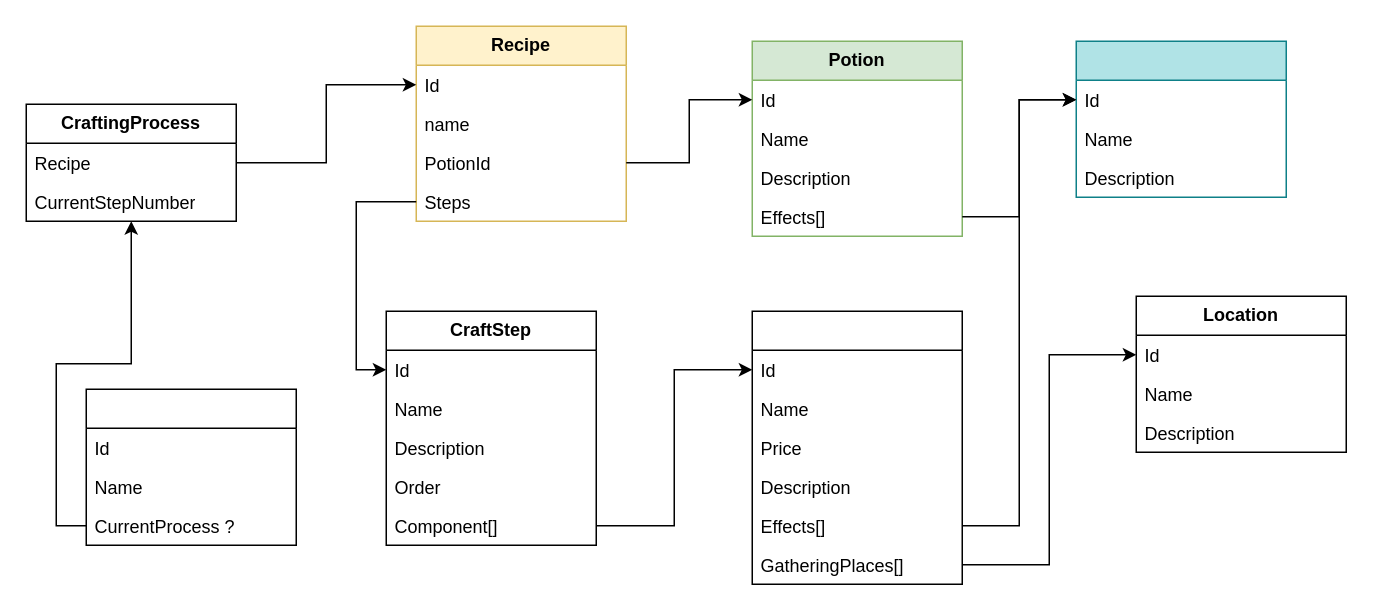
Image size: 1373x615. Some labels were removed from this diagram. The shapes that lost their labels are listed below. From the top down, each one's box as (x1, y1, x2, y2) in pixels, then its label:
(1075, 40, 1286, 197): Effect
(85, 388, 296, 545): Cauldron
(751, 310, 962, 584): Component
